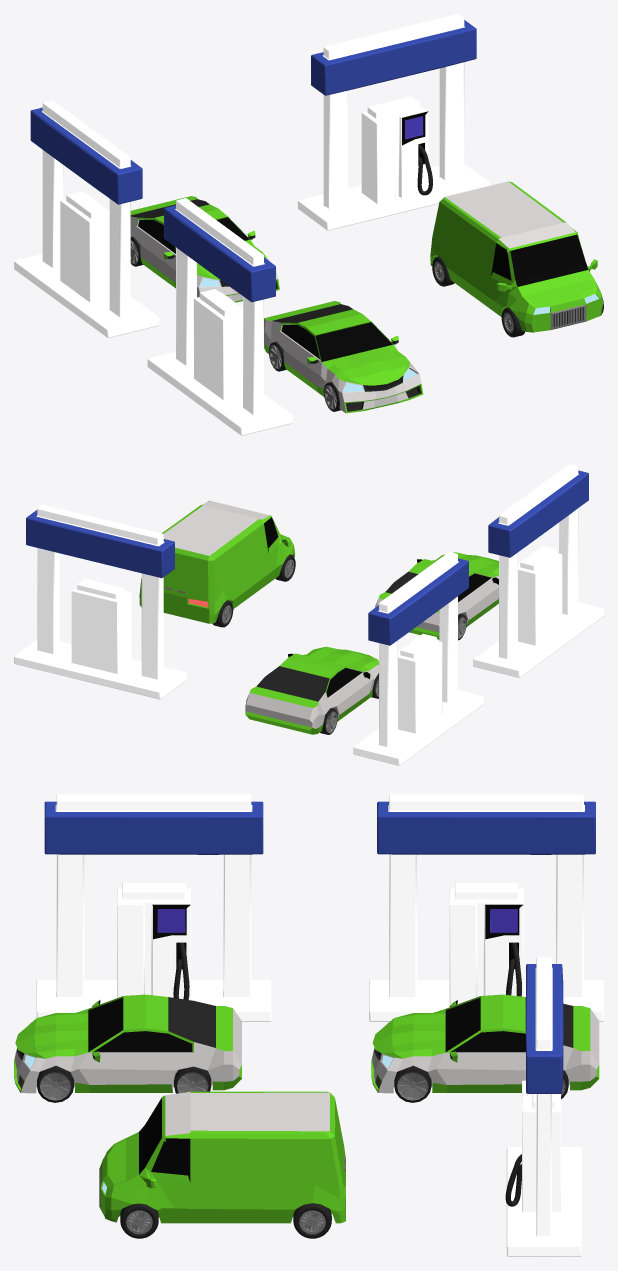
File: Auta.glb
The picture shows the model from 3 angles, top to bottom: view 1: azimuth 30°, elevation 25°; view 2: azimuth 150°, elevation 25°; view 3: azimuth 270°, elevation 25°; orthographic projection. The views are drawn at different scales.
Parts seen in each view (by area): view 1: Car.Low.003, Cube.388, Cube.384, Cube.386, Cube.382, Cube.389, Cube.385, Cube.387, Cube.383; view 2: Cube.388, Car.Low.003, Cube.386, Cube.384, Cube.383, Cube.389, Cube.385, Cube.387, Cube.382; view 3: Car.Low.003, Cube.386, Cube.384, Cube.382, Cube.383, Cube.388, Cube.385, Cube.387, Cube.389.
Boxes of the visible parts, bbox=[...] form: Car.Low.003: bbox=[430, 181, 603, 337]; Cube.388: bbox=[297, 14, 489, 230]; Cube.384: bbox=[14, 100, 159, 338]; Cube.386: bbox=[147, 198, 292, 435]; Cube.382: bbox=[264, 301, 423, 413]; Cube.389: bbox=[361, 96, 428, 203]; Cube.385: bbox=[60, 191, 109, 302]; Cube.387: bbox=[193, 289, 242, 399]; Cube.383: bbox=[130, 196, 279, 302]; Cube.388: bbox=[14, 504, 186, 699]; Car.Low.003: bbox=[139, 500, 295, 627]; Cube.386: bbox=[473, 464, 603, 677]; Cube.384: bbox=[353, 552, 483, 765]; Cube.383: bbox=[245, 646, 378, 734]; Cube.389: bbox=[71, 578, 131, 673]; Cube.385: bbox=[398, 633, 442, 733]; Cube.387: bbox=[518, 546, 562, 645]; Cube.382: bbox=[375, 552, 498, 640]; Car.Low.003: bbox=[99, 1091, 345, 1238]; Cube.386: bbox=[36, 794, 271, 1021]; Cube.384: bbox=[369, 794, 603, 1021]; Cube.382: bbox=[14, 994, 241, 1102]; Cube.383: bbox=[371, 994, 599, 1102]; Cube.388: bbox=[506, 957, 581, 1256]; Cube.385: bbox=[449, 882, 523, 1004]; Cube.387: bbox=[117, 882, 190, 1000]; Cube.389: bbox=[522, 1080, 560, 1211].
Bounding box in the file's own units: 2.64 × 1 × 2.47.
